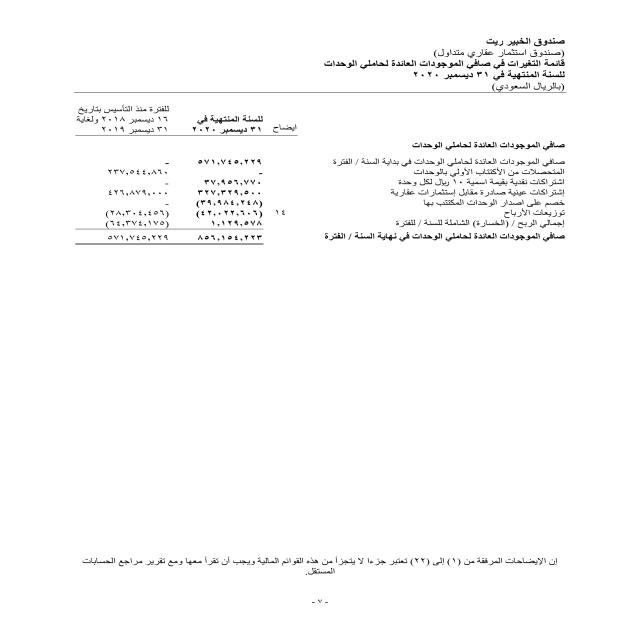financial_sheets: (327, 61, 565, 73)
table: (54, 104, 310, 257)
